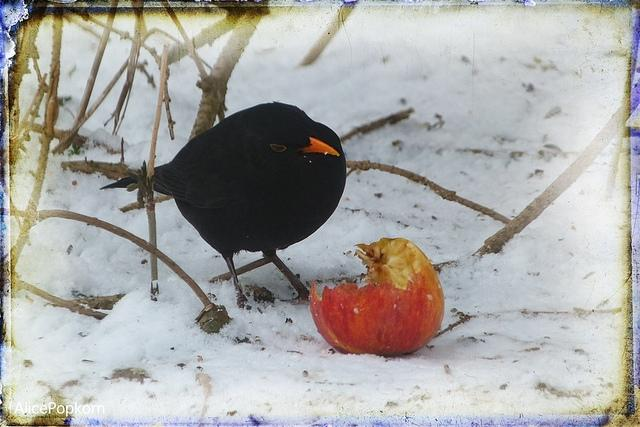apple: (310, 238, 445, 355)
